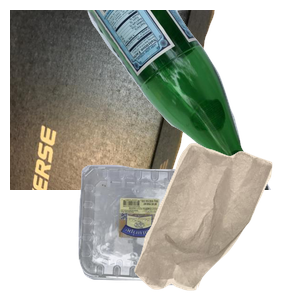cardboard: (10, 10, 217, 190)
glass: (75, 10, 300, 190)
plastic: (76, 162, 264, 300)
trash: (132, 140, 300, 300)
